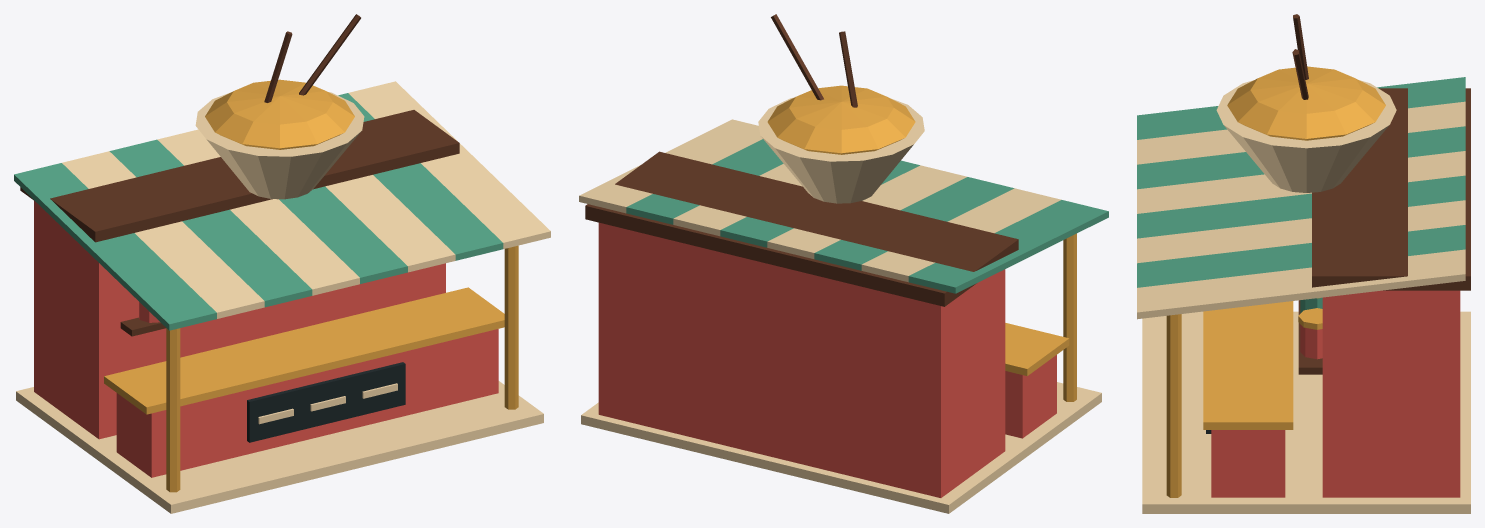
The model's file is ParkParkShopRamen.obj.
3 renders of one model, left to right at view 1: azimuth 30°, elevation 25°; view 2: azimuth 150°, elevation 25°; view 3: azimuth 270°, elevation 25°, orthographic. The views are drawn at different scales.
Parts seen in each view (by area): view 1: ParkParkShopRamen; view 2: ParkParkShopRamen; view 3: ParkParkShopRamen.
Part boxes in pixels (x1,y1,x2,y2): ParkParkShopRamen: (14, 14, 550, 513); ParkParkShopRamen: (579, 14, 1108, 513); ParkParkShopRamen: (1137, 14, 1470, 513).
Size of the model in its own units: 8.8 by 8.44 by 6.3.
